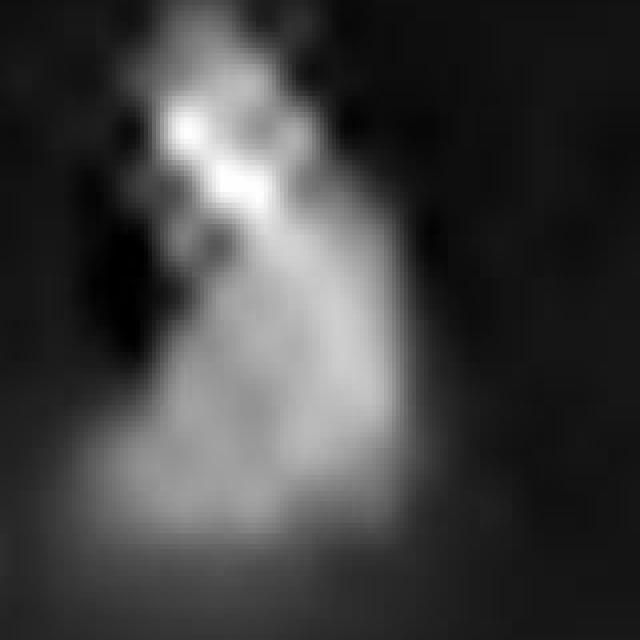person: (73, 1, 433, 593)
